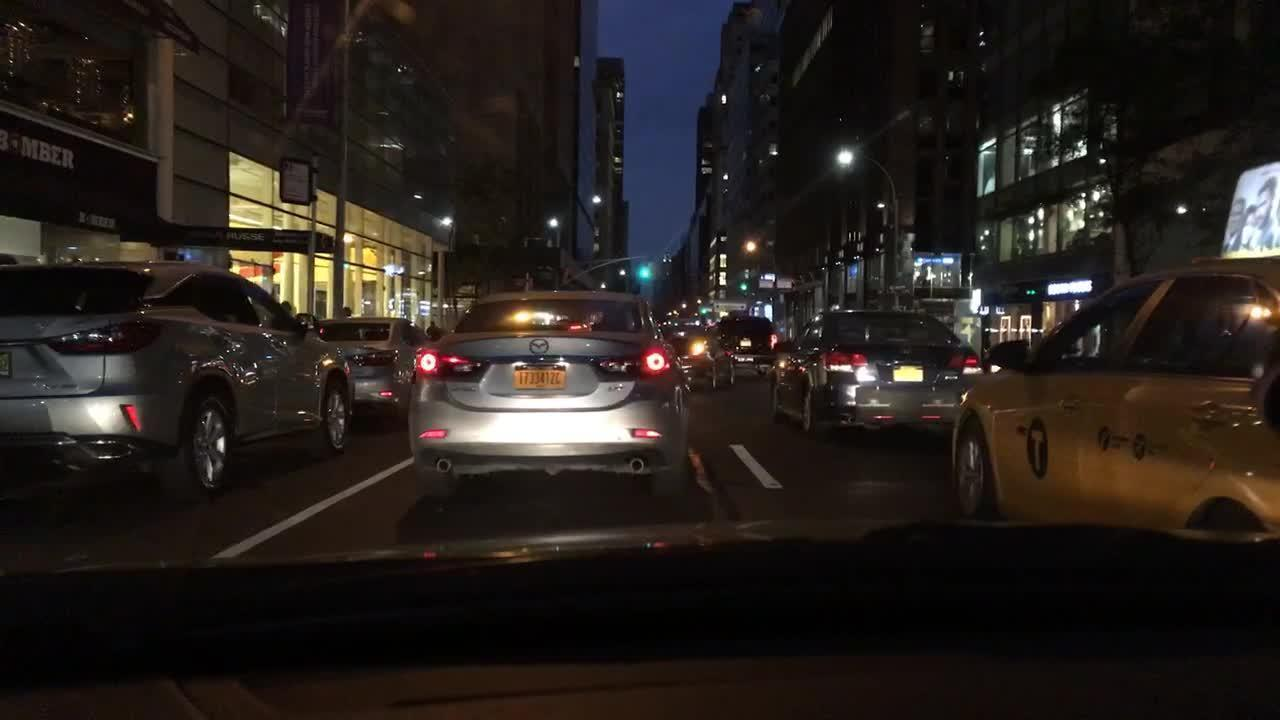Mazda: (526, 336, 555, 358)
